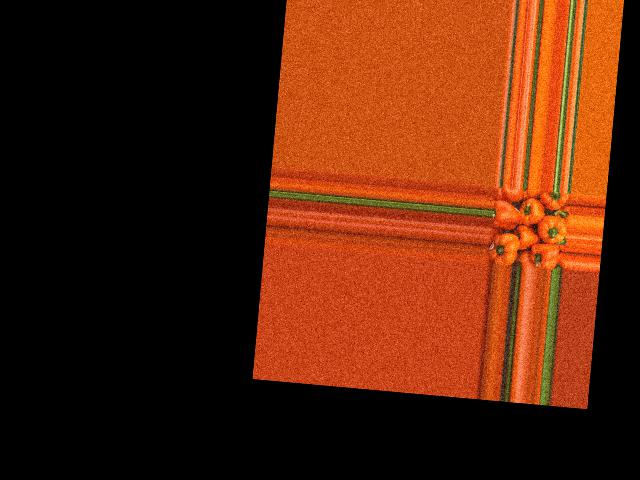bell_pepper: (492, 187, 524, 202)
